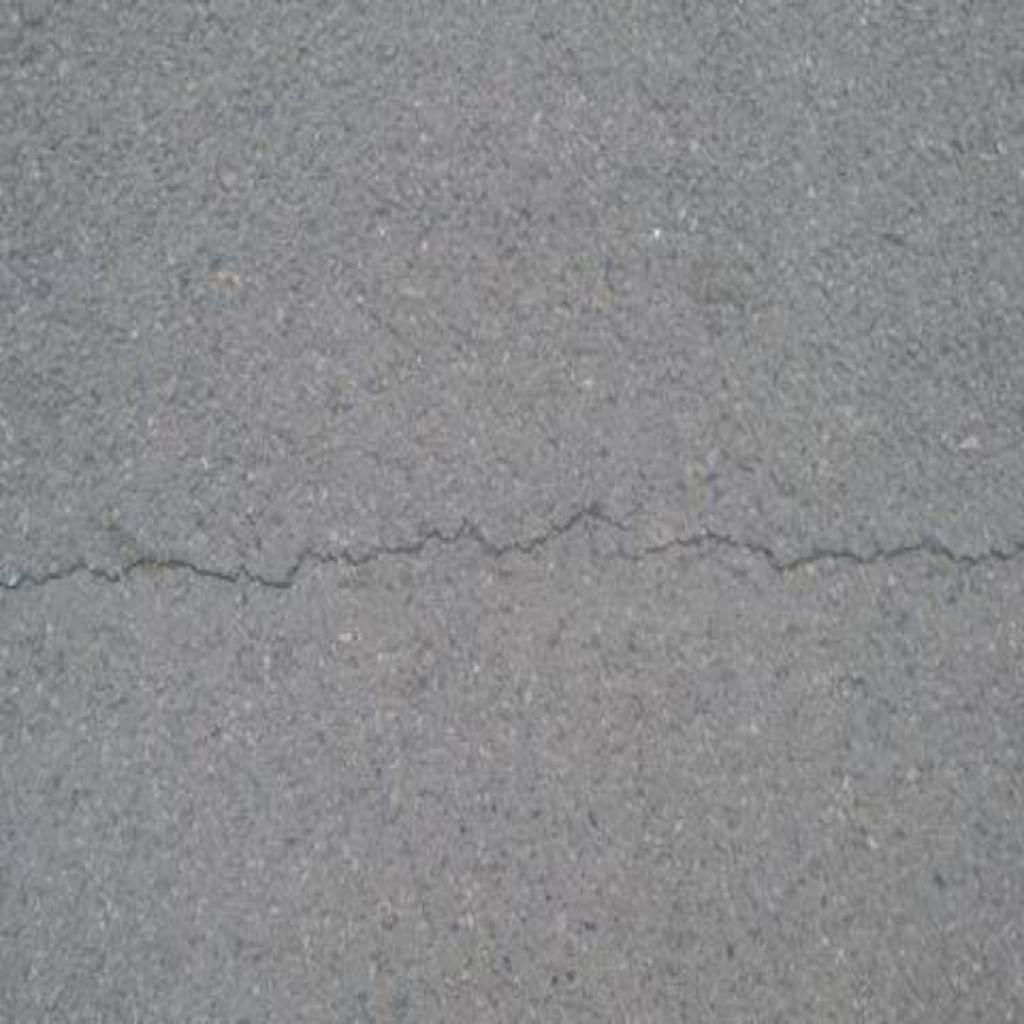Crack: (1, 506, 634, 591), (612, 533, 1024, 575)
